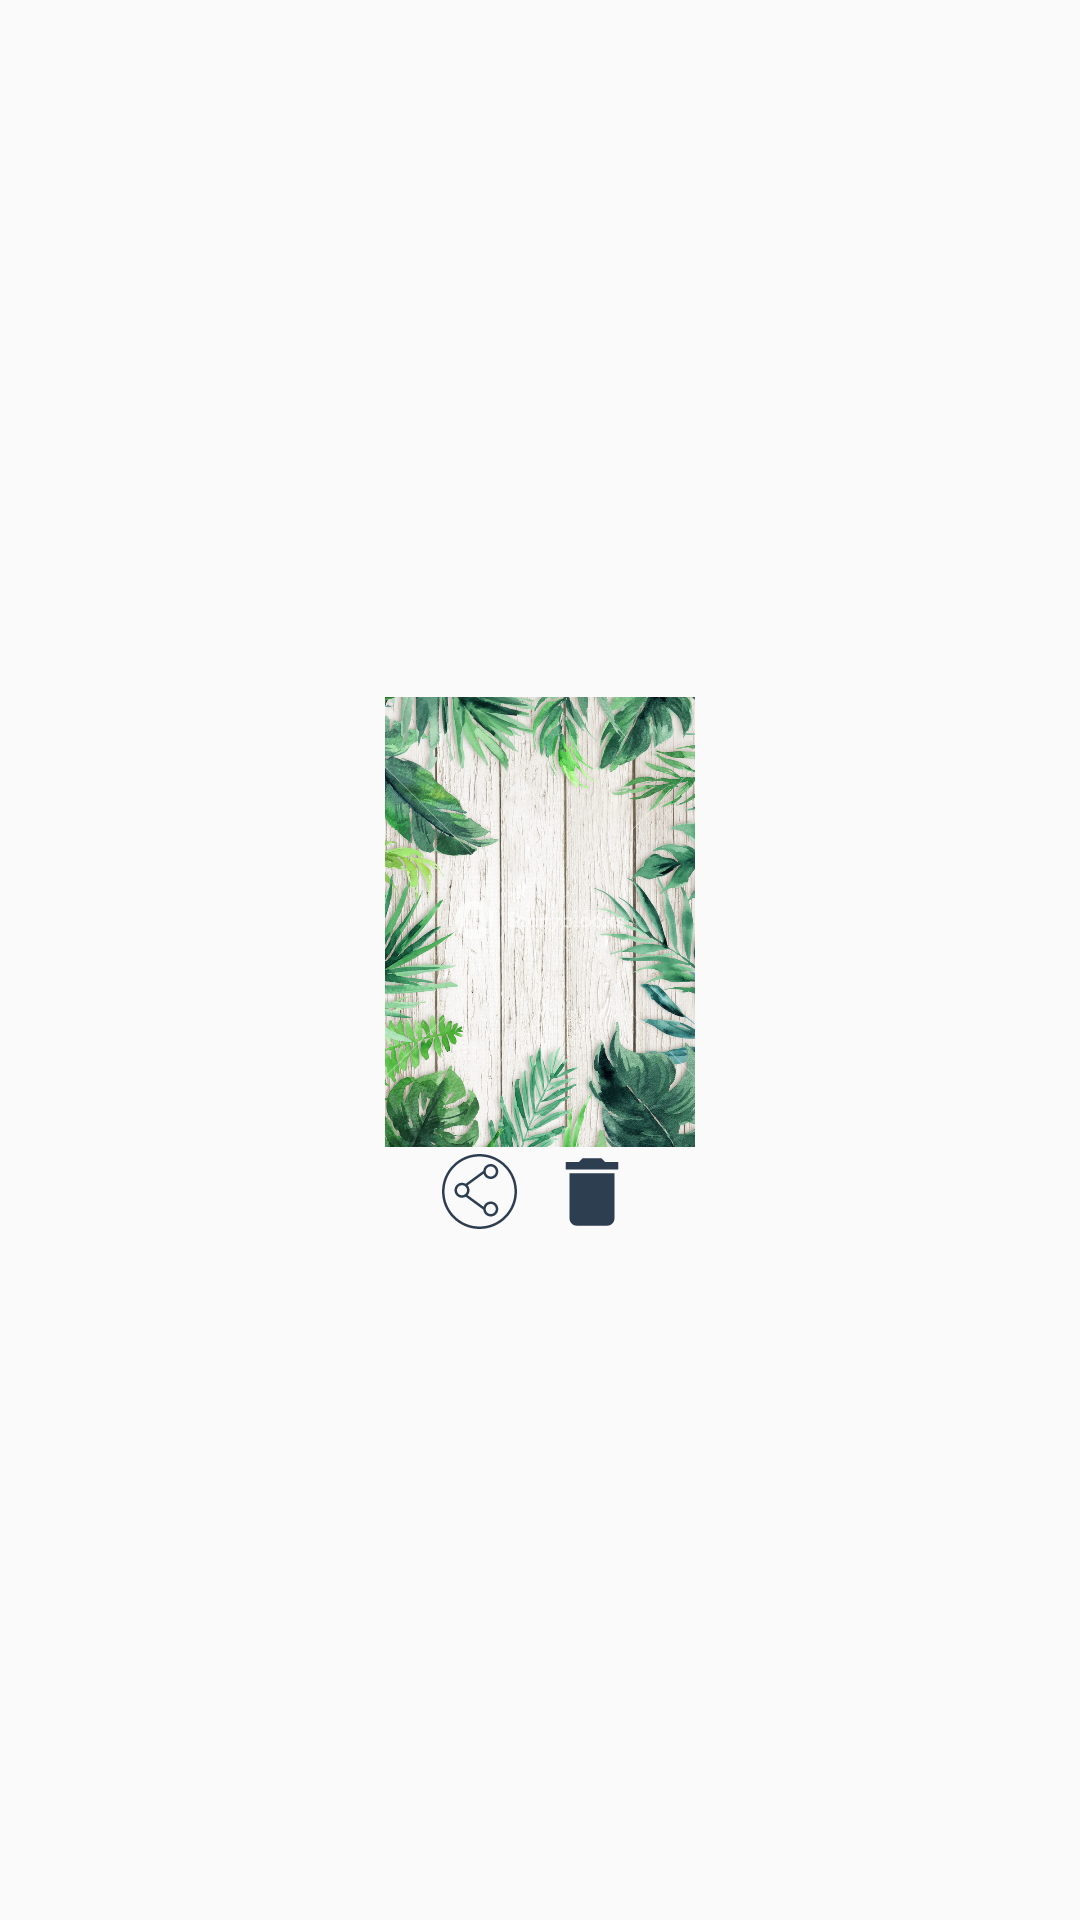

Icon click points for this 1080x1920 phone screenshot, format (x=x, y=y):
delete: (x=592, y=1192)
share: (x=479, y=1191)
